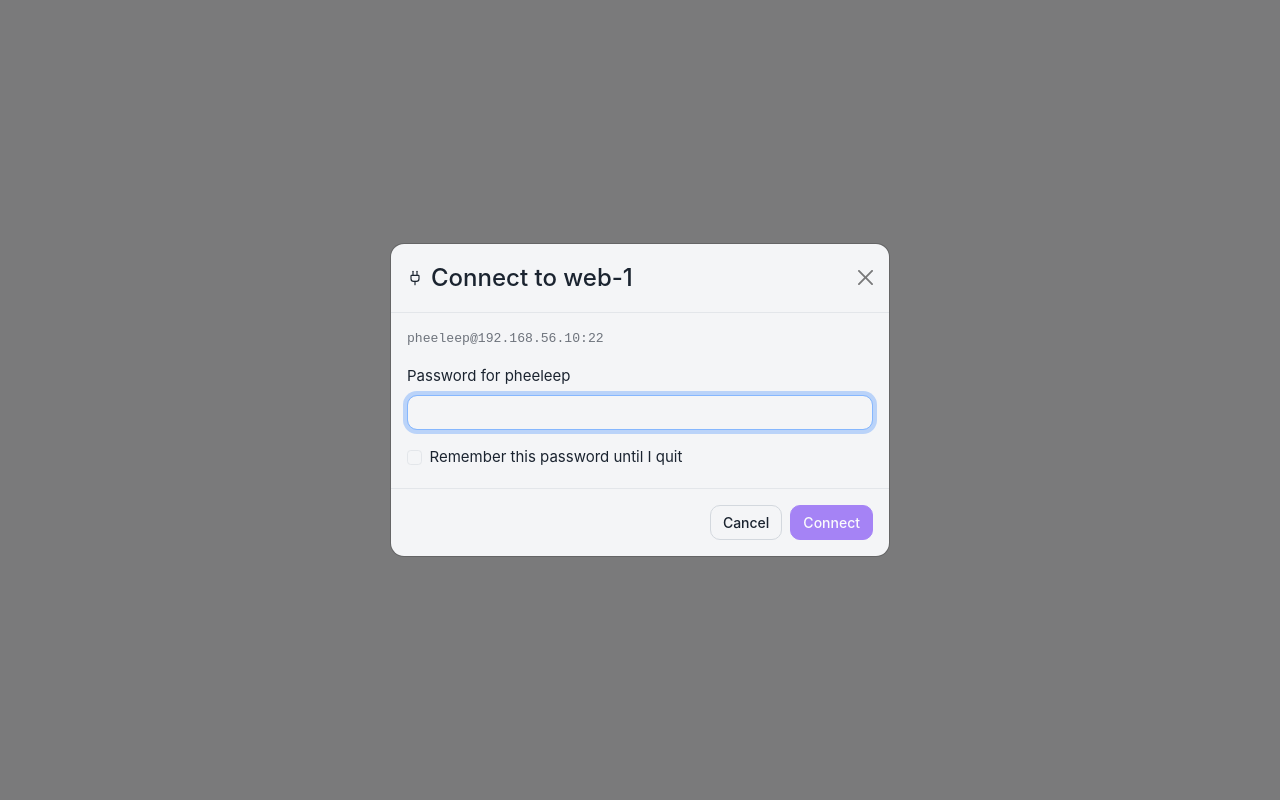
Test: ConnectDialog › shows other failures and lets the user retry
Step 1. Type "wrong" into the password field labelled "Password for pheeleep" → (640, 413), box top-left (407, 395), bottom-right (873, 430)
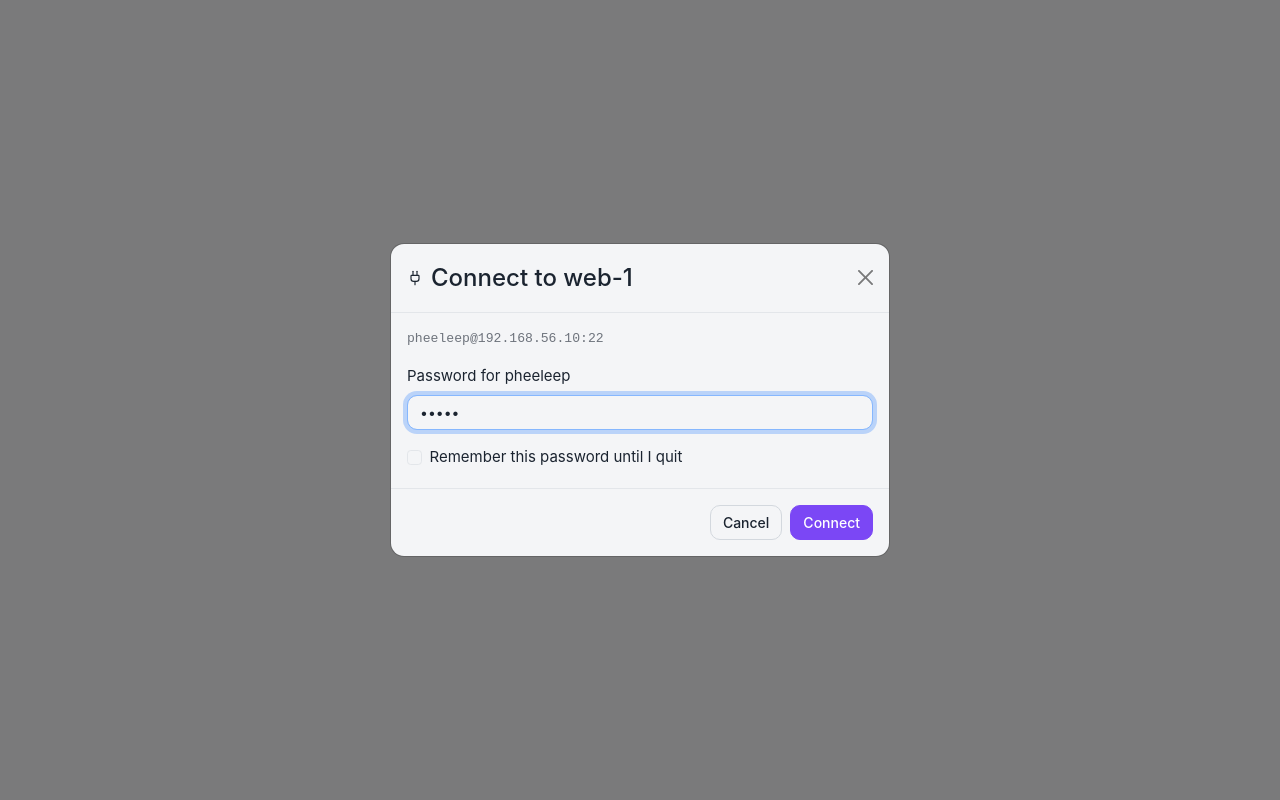
Step 2. Click the button "Connect" → (832, 523), box top-left (790, 505), bottom-right (873, 540)
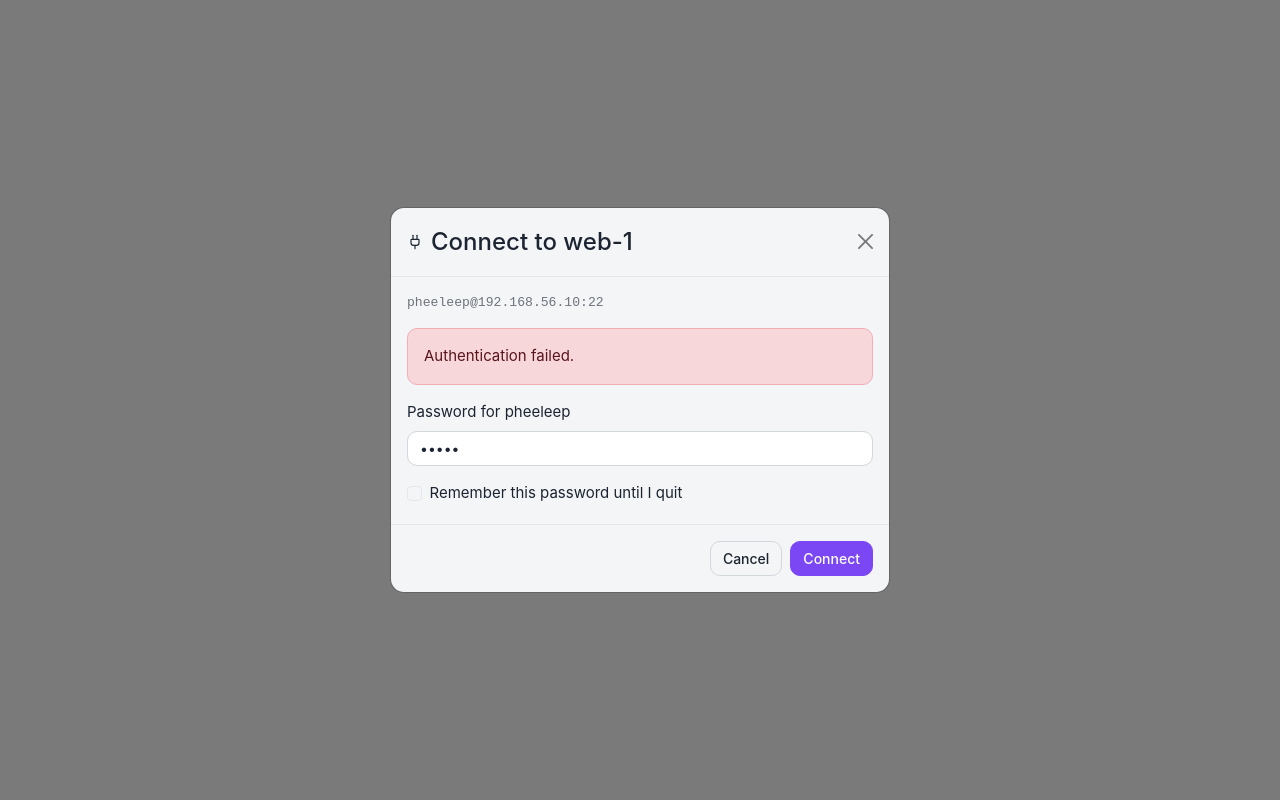
Expected: the button "Connect" is enabled, top-left (790, 541), bottom-right (873, 576)
Expected: the text "Authentication failed." is shown, top-left (407, 328), bottom-right (873, 385)
